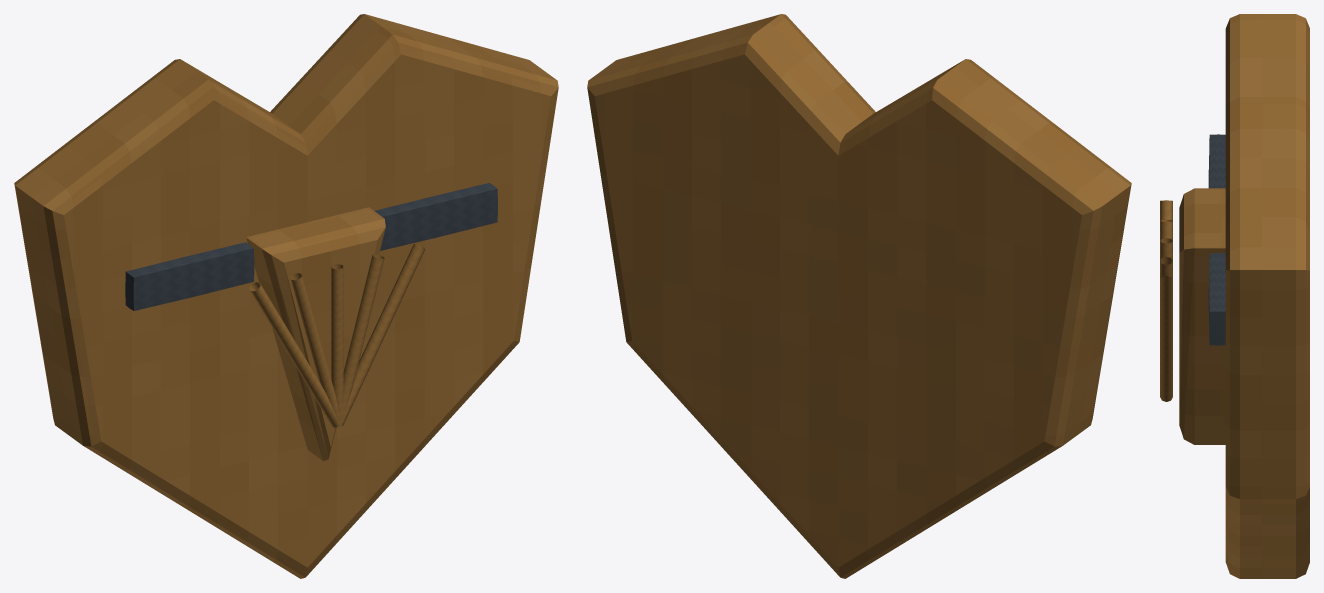
3 views of the same model, side by side, from view 1: azimuth 30°, elevation 25°; view 2: azimuth 150°, elevation 25°; view 3: azimuth 270°, elevation 25° (orthographic).
Parts seen in each view (by area): view 1: brass.0, brass.3, iron.1, iron.2, brass.8, brass.4, brass.7, brass.6, brass.5; view 2: brass.0; view 3: brass.0, brass.3, brass.8, iron.2, iron.1, brass.4, brass.7, brass.6, brass.5.
Boxes of the visible parts, bbox=[...] form: brass.0: bbox=[14, 14, 558, 578]; brass.3: bbox=[246, 207, 385, 461]; iron.1: bbox=[125, 242, 254, 310]; iron.2: bbox=[374, 183, 497, 250]; brass.8: bbox=[340, 244, 425, 425]; brass.4: bbox=[249, 282, 340, 427]; brass.7: bbox=[340, 254, 384, 424]; brass.6: bbox=[331, 264, 343, 424]; brass.5: bbox=[290, 273, 340, 424]; brass.0: bbox=[587, 14, 1131, 578]; brass.0: bbox=[1225, 14, 1309, 578]; brass.3: bbox=[1179, 188, 1225, 444]; brass.8: bbox=[1160, 275, 1172, 401]; iron.2: bbox=[1208, 253, 1225, 345]; iron.1: bbox=[1208, 134, 1225, 188]; brass.4: bbox=[1160, 200, 1172, 220]; brass.7: bbox=[1160, 256, 1172, 280]; brass.6: bbox=[1160, 238, 1172, 260]; brass.5: bbox=[1160, 219, 1172, 240].
Bounding box in the file's own units: 0.2744 × 0.2661 × 0.0695.
Materials: 2 (2 with a texture image).
